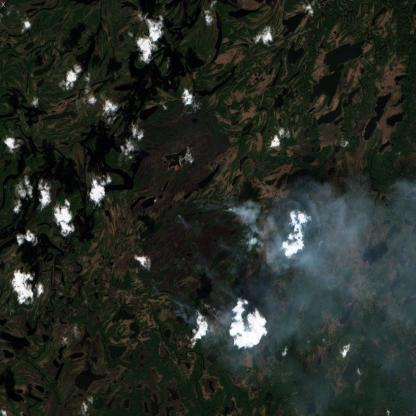fire: (159, 201, 257, 318)
